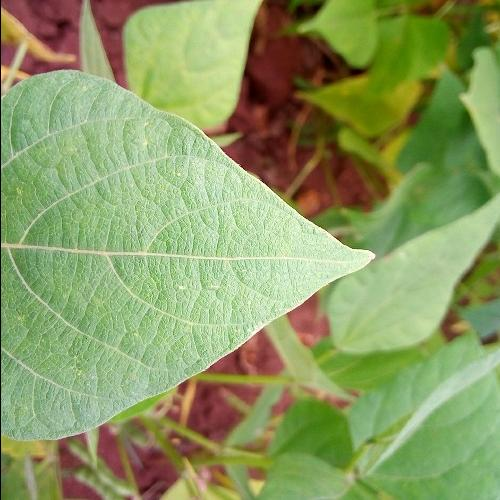embun tepung: (0, 76, 269, 352)
